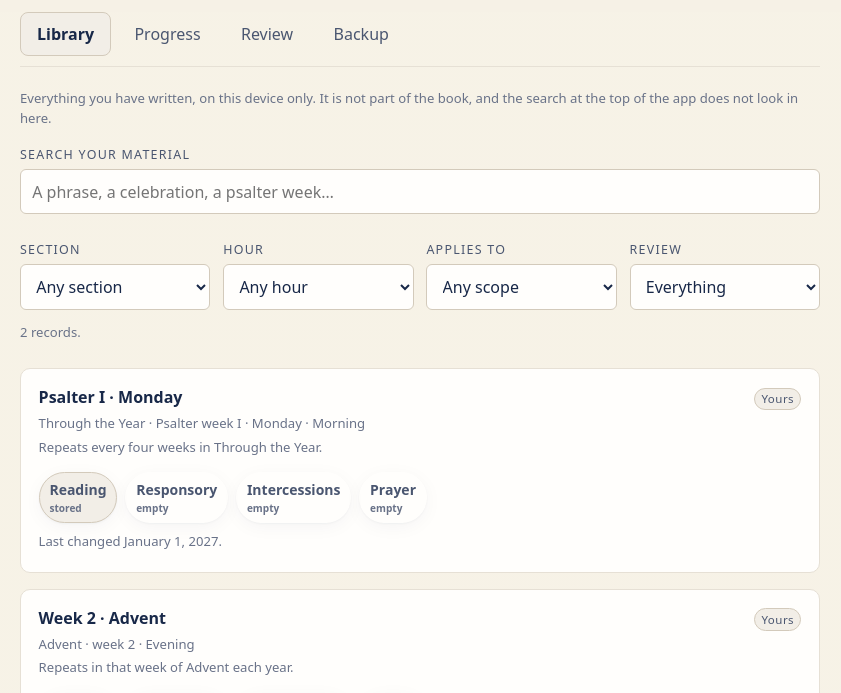
Test: 3 and 4: the Library shows and searches what is stored › finds personal wording locally
In the search field labelled "Search your material": (420, 192) [20,169,820,214], type "lamps"
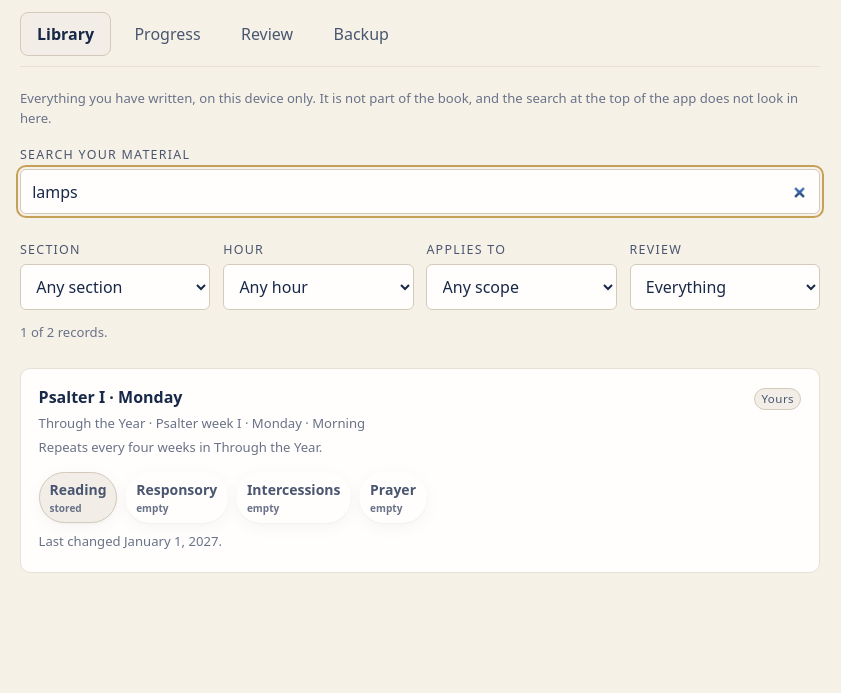
Result: the text "1 of 2 records." is shown at [20,323,108,341]
